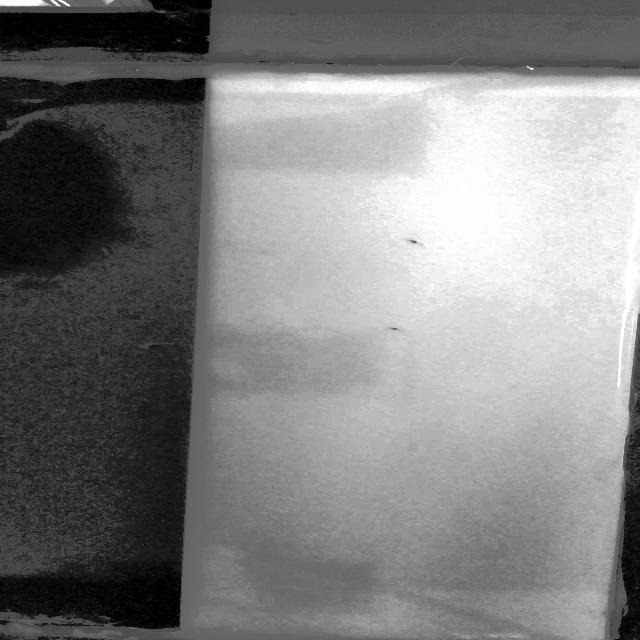shrimp: (382, 322, 420, 338), (404, 235, 430, 250)
